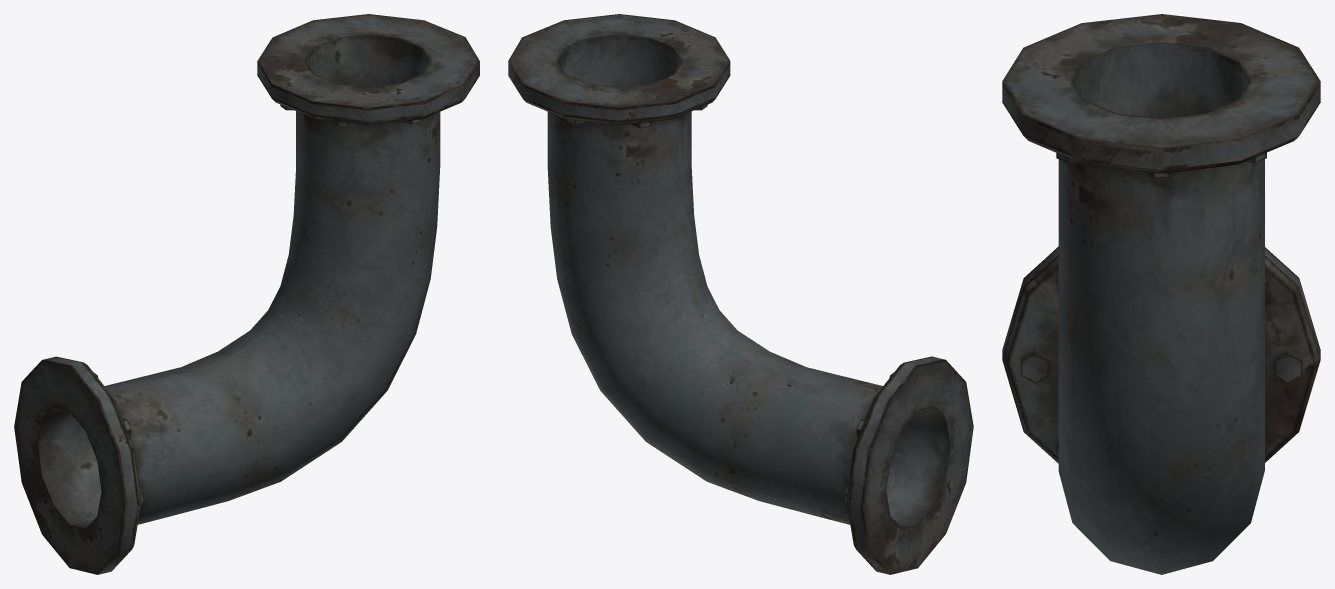
The model's file is pipe04.gltf.
3 views of the same model, side by side, from view 1: azimuth 30°, elevation 25°; view 2: azimuth 150°, elevation 25°; view 3: azimuth 270°, elevation 25° (orthographic). The views are drawn at different scales.
Visible parts, largest first — view 1: pipe04; view 2: pipe04; view 3: pipe04.
Part boxes in pixels (x1,y1,x2,y2): pipe04: (14, 14, 479, 574); pipe04: (508, 14, 973, 574); pipe04: (1002, 14, 1320, 574).
Size of the model in its own units: 0.4241 by 0.4446 by 0.2063.
Materials: 1 (1 with a texture image).
